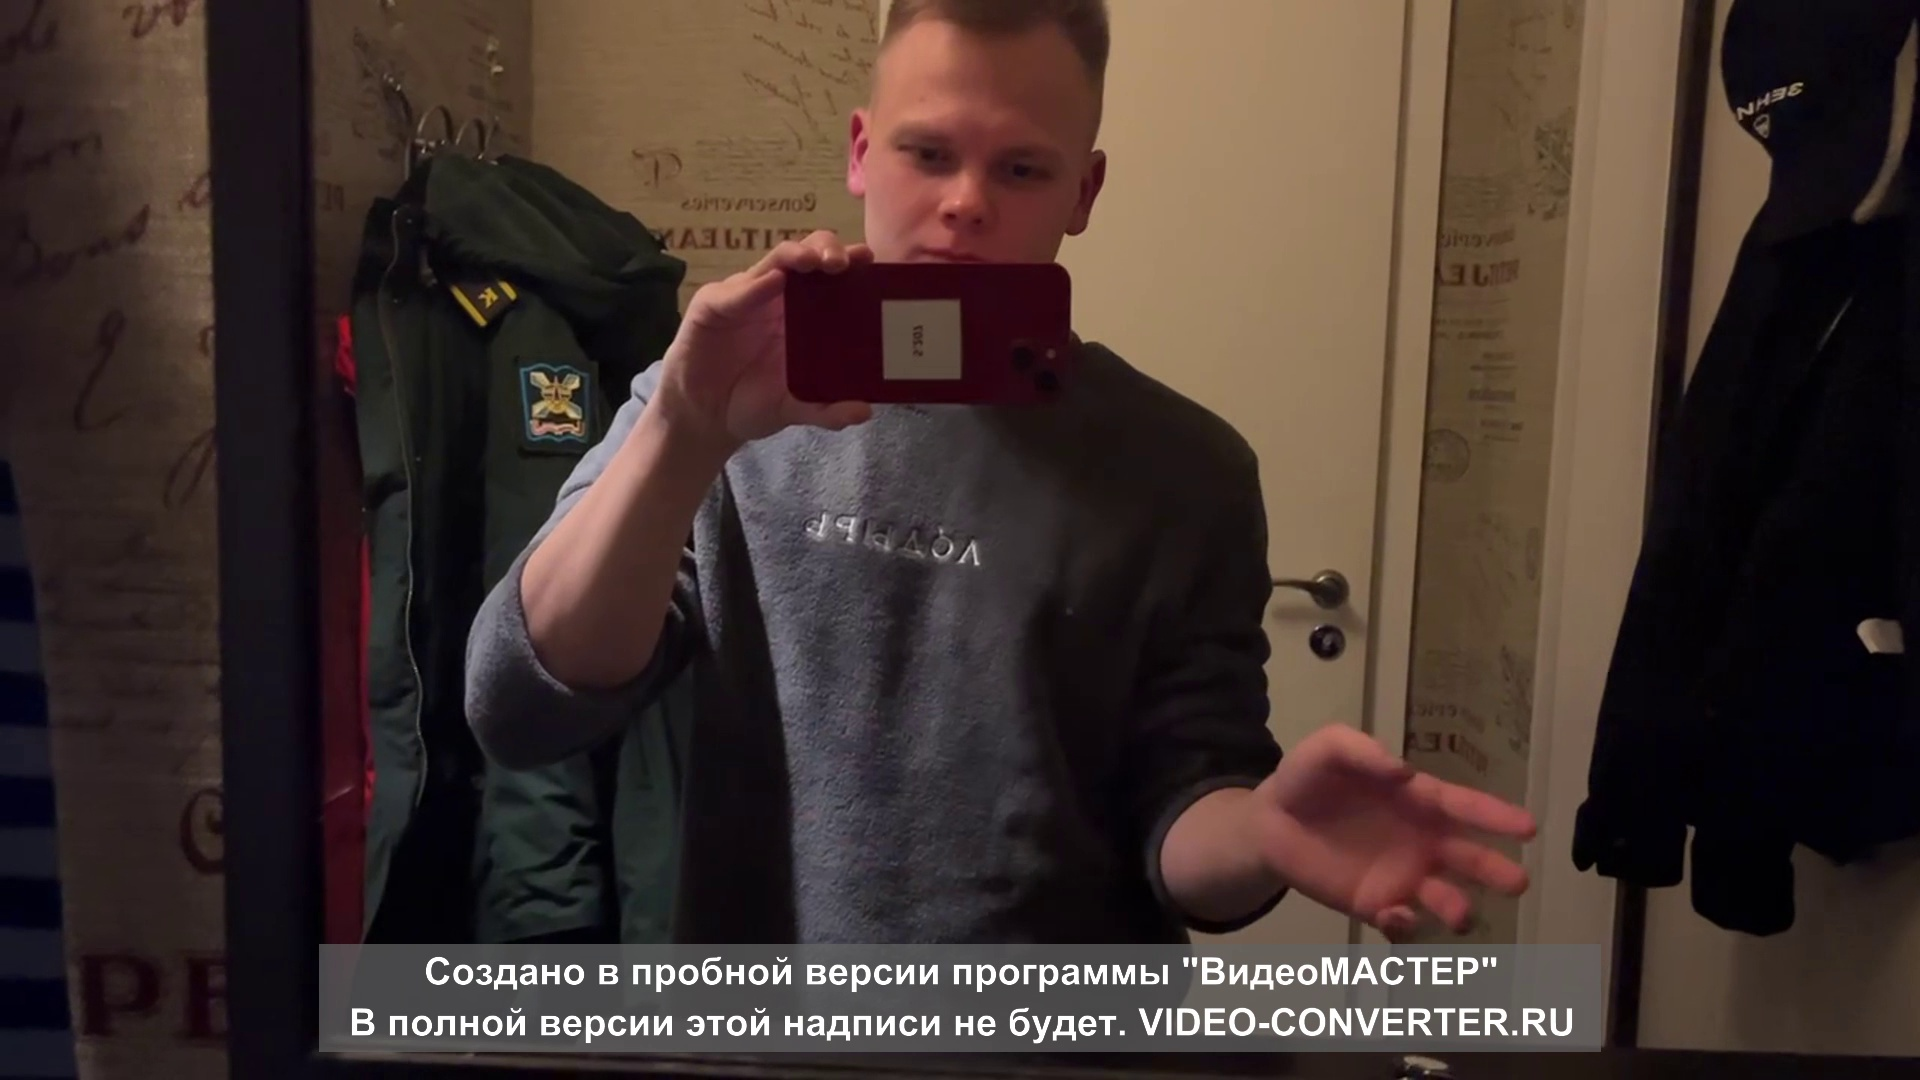Ладонь: (1273, 721, 1536, 940)
